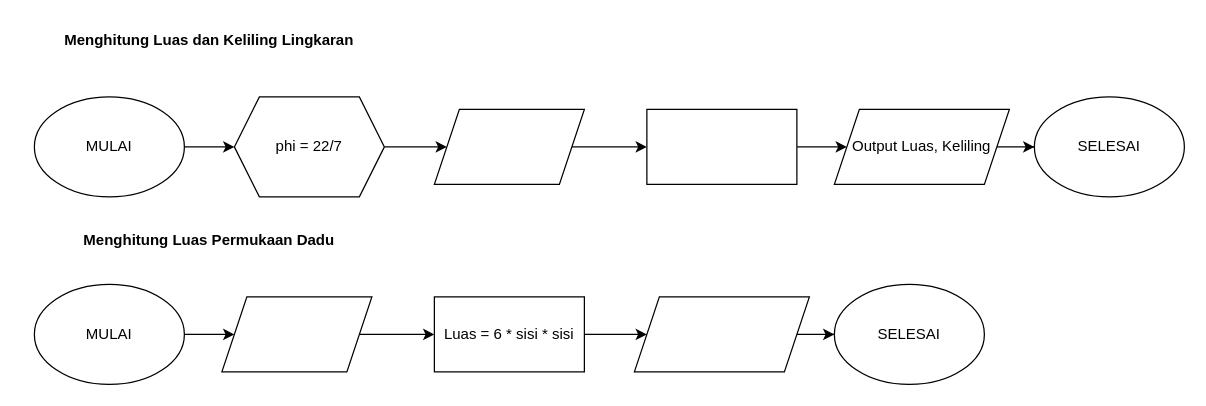
The diagram is 1206 pixels wide and 406 high, and some of its shapes have lost their labels. The shapes that lost their labels are listed below. From the top down, each one's centre as x and y in pixels, then its label:
[508,146]: INPUT r
[721,146]: Luas = phi * r * r Keliling = 2 *phi * r
[296,334]: INPUT sisi
[721,334]: Output Luas
